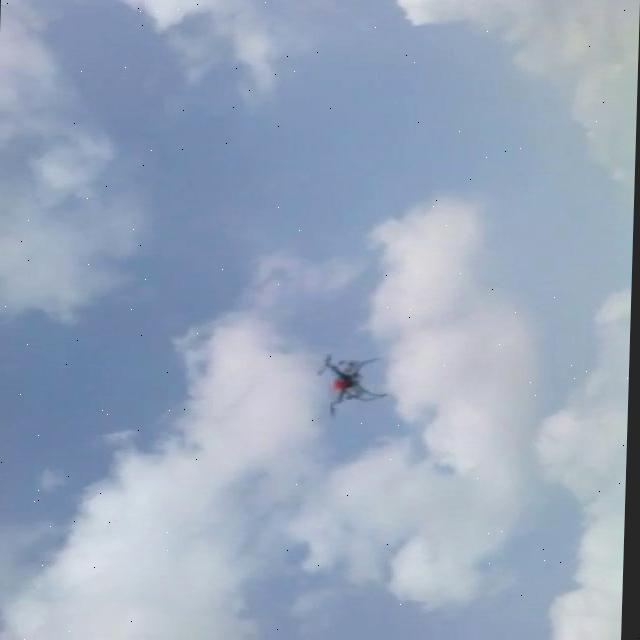drone: (314, 354, 388, 420)
